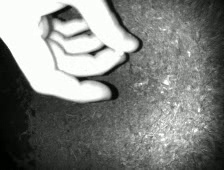corn: (113, 46, 126, 58)
